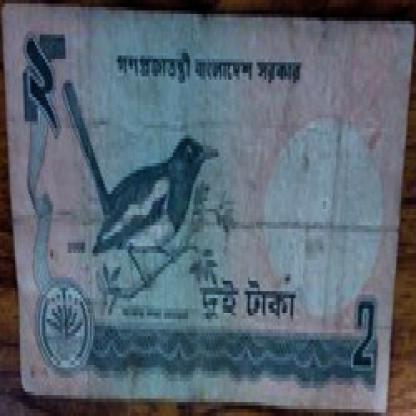two taka: (22, 35, 70, 146), (339, 294, 378, 385)
